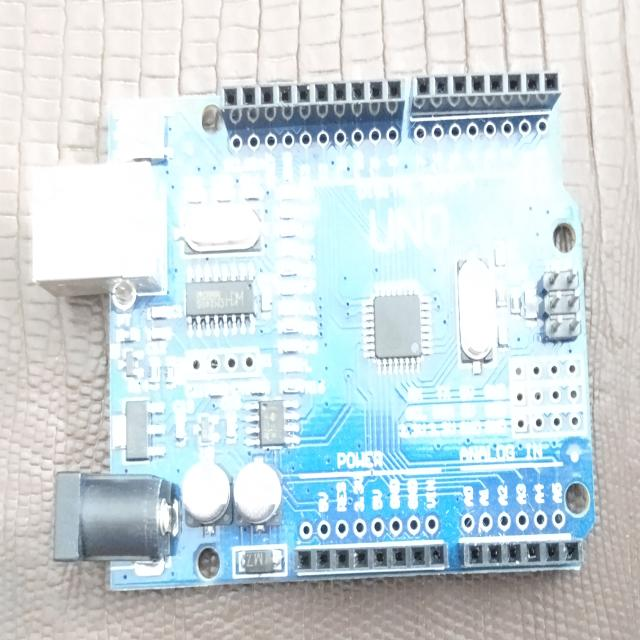arduino: (21, 54, 610, 584)
